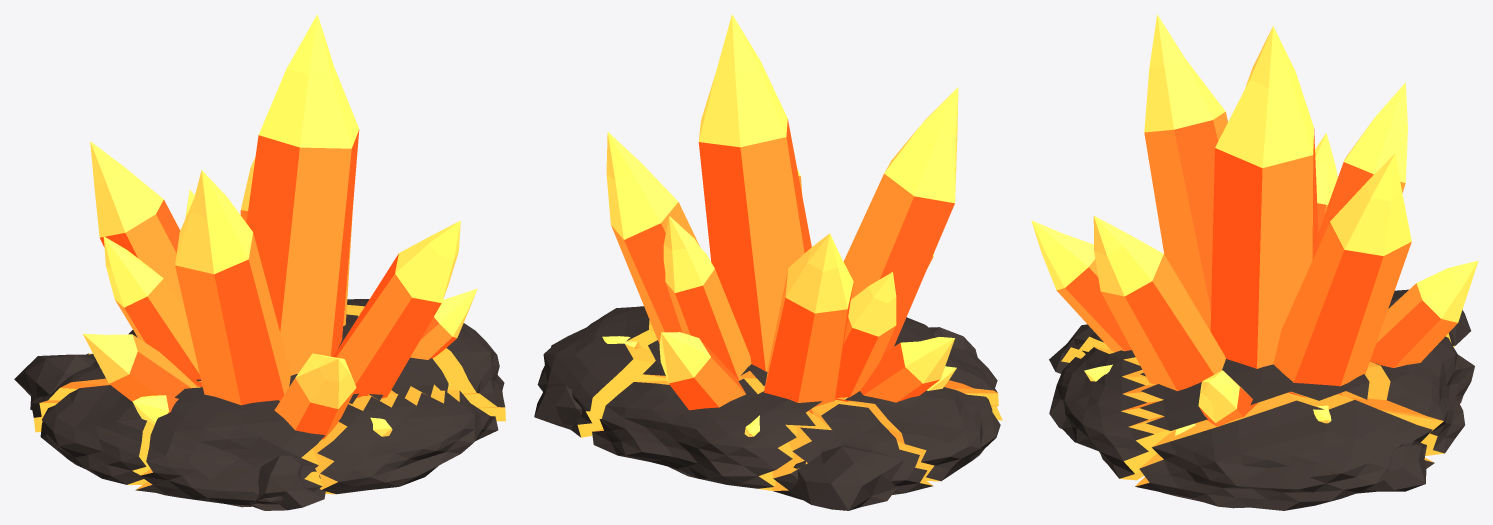
The model's file is magma_crystal_a.glb.
3 views of the same model, side by side, from view 1: azimuth 30°, elevation 25°; view 2: azimuth 150°, elevation 25°; view 3: azimuth 270°, elevation 25° (orthographic). The views are drawn at different scales.
Visible parts, largest first — view 1: magma_crystal_a; view 2: magma_crystal_a; view 3: magma_crystal_a.
Boxes of the visible parts, x1,y1,x2,y2 form: magma_crystal_a: [14, 14, 505, 510]; magma_crystal_a: [534, 14, 1002, 510]; magma_crystal_a: [1031, 14, 1478, 510].
Bounding box in the file's own units: 2.49 × 2.25 × 2.21.
